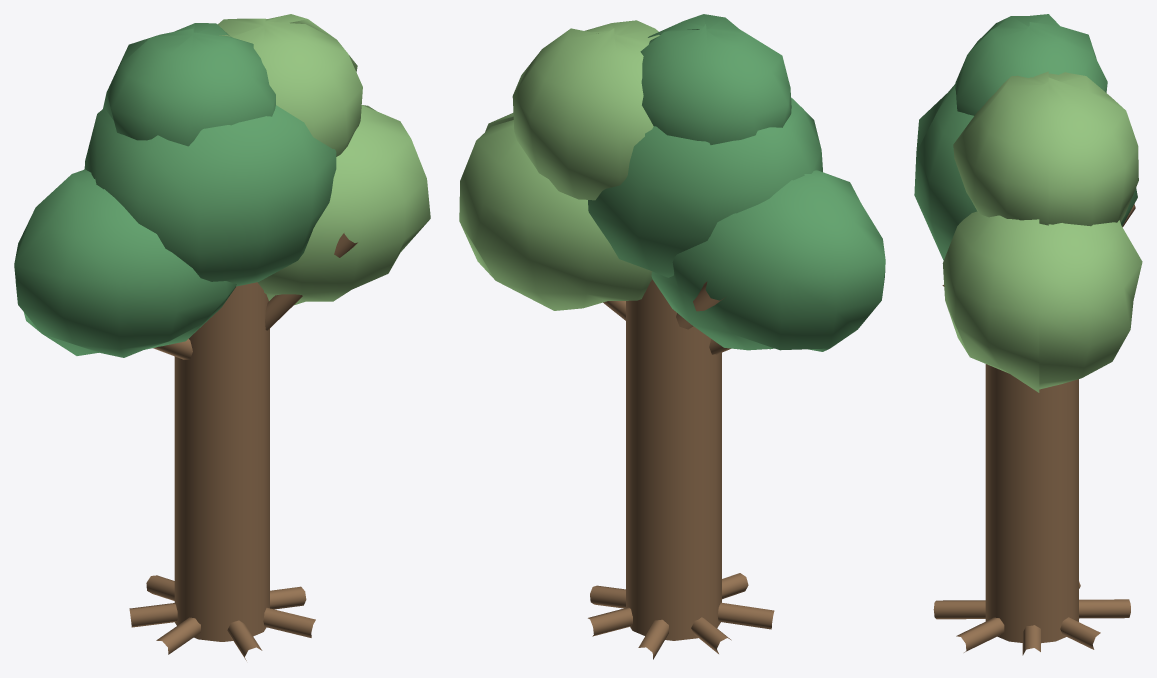
Rendered from oak_01.gltf.
The picture shows the model from 3 angles, left to right: view 1: azimuth 30°, elevation 25°; view 2: azimuth 150°, elevation 25°; view 3: azimuth 270°, elevation 25°; orthographic projection. The views are drawn at different scales.
Parts seen in each view (by area): view 1: Trunk, Foliage_2, Foliage_0, Foliage_1, Foliage_4, Foliage_3, Branch_3, Root_1, Root_4, Root_3, Root_0, Root_2; view 2: Trunk, Foliage_0, Foliage_2, Foliage_1, Foliage_3, Foliage_4, Root_3, Root_6, Root_0, Root_4, Root_5; view 3: Foliage_1, Trunk, Foliage_3, Foliage_4, Foliage_2, Root_5, Root_2, Root_1, Root_6, Root_0.
Part boxes in pixels (x1=…): Trunk: x1=174, y1=282, x2=269, y2=641; Foliage_2: x1=84, y1=105, x2=336, y2=286; Foliage_0: x1=14, y1=169, x2=236, y2=357; Foliage_1: x1=257, y1=105, x2=430, y2=305; Foliage_4: x1=102, y1=23, x2=275, y2=146; Foliage_3: x1=218, y1=14, x2=362, y2=156; Branch_3: x1=265, y1=233, x2=357, y2=330; Root_1: x1=263, y1=608, x2=315, y2=637; Root_4: x1=129, y1=603, x2=177, y2=627; Root_3: x1=156, y1=617, x2=200, y2=654; Root_0: x1=270, y1=586, x2=306, y2=609; Root_2: x1=227, y1=620, x2=262, y2=660; Trunk: x1=626, y1=279, x2=721, y2=640; Foliage_0: x1=651, y1=170, x2=885, y2=351; Foliage_2: x1=588, y1=97, x2=822, y2=277; Foliage_1: x1=459, y1=113, x2=652, y2=310; Foliage_3: x1=512, y1=20, x2=659, y2=200; Foliage_4: x1=640, y1=14, x2=791, y2=144; Root_3: x1=717, y1=602, x2=774, y2=629; Root_6: x1=588, y1=607, x2=632, y2=636; Root_0: x1=590, y1=585, x2=625, y2=608; Root_4: x1=691, y1=617, x2=731, y2=653; Root_5: x1=638, y1=619, x2=668, y2=659; Foliage_1: x1=942, y1=211, x2=1142, y2=392; Trunk: x1=985, y1=364, x2=1078, y2=643; Foliage_3: x1=953, y1=71, x2=1138, y2=226; Foliage_4: x1=955, y1=14, x2=1107, y2=115; Foliage_2: x1=914, y1=84, x2=1137, y2=260; Root_5: x1=1079, y1=599, x2=1130, y2=618; Root_2: x1=933, y1=600, x2=985, y2=619; Root_1: x1=956, y1=617, x2=1004, y2=652; Root_6: x1=1060, y1=617, x2=1100, y2=649; Root_0: x1=1022, y1=625, x2=1040, y2=655.
Bounding box in the file's own units: 3.35 × 4.74 × 1.66.
